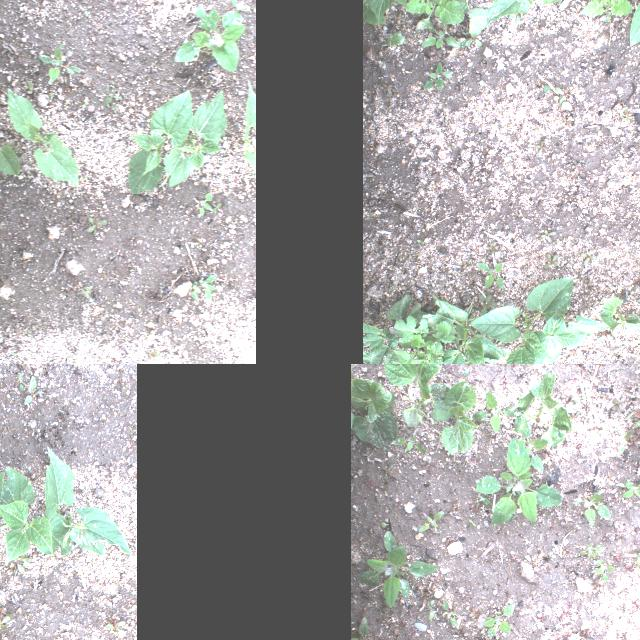crop: (468, 277, 610, 364), (37, 446, 133, 556), (6, 88, 78, 186), (128, 88, 192, 194), (421, 294, 512, 364), (164, 89, 226, 187), (0, 465, 53, 568), (383, 364, 459, 428), (512, 368, 572, 448), (466, 0, 583, 34), (363, 294, 413, 364), (351, 378, 397, 449), (440, 382, 480, 454), (362, 0, 445, 23), (0, 86, 19, 176), (599, 296, 640, 333), (243, 80, 256, 188)
weed: (474, 438, 564, 526), (358, 531, 438, 607), (172, 6, 244, 74), (379, 303, 455, 364), (393, 0, 469, 34), (472, 391, 518, 434), (516, 420, 548, 474), (36, 45, 68, 89), (572, 491, 610, 527), (482, 602, 516, 638), (584, 0, 632, 21), (423, 62, 453, 92), (474, 262, 504, 290), (421, 28, 461, 48), (388, 436, 426, 456), (24, 376, 44, 404), (198, 190, 216, 220), (85, 216, 114, 234), (418, 512, 444, 532), (351, 617, 373, 640), (101, 84, 122, 108), (440, 600, 458, 628), (202, 274, 218, 304), (595, 558, 615, 582), (363, 6, 385, 27), (477, 294, 497, 316), (78, 283, 98, 303), (104, 618, 126, 636), (571, 382, 587, 406), (619, 481, 640, 499), (0, 607, 15, 632), (619, 430, 633, 456), (579, 544, 605, 558), (422, 600, 440, 620), (554, 86, 572, 105), (464, 29, 482, 47), (386, 32, 404, 48), (226, 0, 251, 11), (461, 368, 474, 389), (580, 250, 596, 266), (544, 252, 558, 270), (188, 284, 200, 304), (596, 332, 616, 344), (380, 464, 394, 481), (540, 228, 556, 242), (612, 396, 626, 412), (624, 405, 638, 421), (468, 606, 482, 620), (568, 410, 580, 426), (510, 10, 524, 22), (536, 142, 548, 156), (560, 516, 572, 530), (230, 217, 240, 233), (381, 82, 392, 96), (560, 391, 574, 402), (632, 409, 640, 428), (22, 80, 34, 92), (594, 580, 606, 592), (610, 550, 622, 562), (454, 39, 468, 49), (488, 241, 498, 255), (477, 494, 491, 504), (19, 373, 26, 391), (462, 258, 472, 270), (617, 288, 627, 300), (602, 532, 614, 542), (66, 66, 80, 74), (145, 350, 159, 358), (9, 348, 19, 359), (562, 115, 572, 126), (108, 105, 120, 114), (83, 8, 93, 18), (216, 202, 226, 212), (568, 373, 578, 383), (466, 518, 476, 528), (615, 530, 625, 540), (636, 552, 640, 577), (563, 608, 573, 618), (430, 578, 440, 588), (580, 629, 592, 637), (82, 100, 91, 110), (620, 107, 628, 117), (622, 113, 632, 121), (530, 122, 540, 130), (636, 316, 640, 336), (576, 439, 584, 449), (612, 423, 620, 433), (548, 550, 556, 560), (536, 614, 546, 622), (558, 612, 566, 622), (562, 620, 572, 628), (450, 534, 458, 544), (443, 538, 453, 546), (563, 631, 571, 640), (49, 90, 56, 100), (626, 563, 634, 571), (407, 609, 415, 617), (400, 620, 408, 628), (556, 0, 568, 5), (412, 253, 418, 261), (543, 85, 551, 91), (462, 594, 468, 602), (567, 601, 573, 609), (554, 634, 562, 640), (412, 627, 418, 635), (482, 616, 492, 620), (415, 240, 423, 244), (556, 376, 560, 382)
